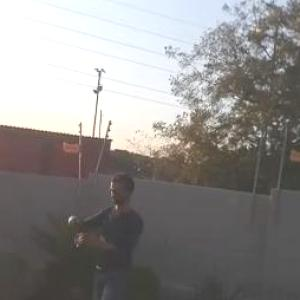follow: (53, 168, 152, 299)
